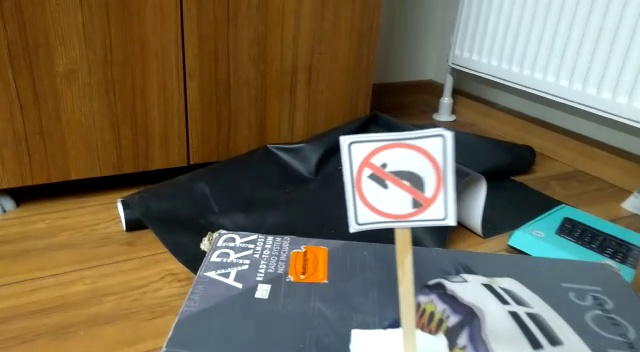sola_donulmez: (355, 136, 444, 219)
